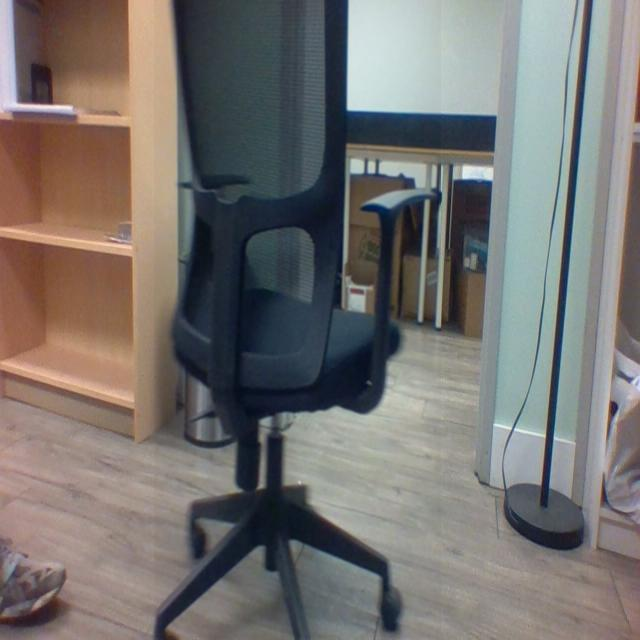chair: (148, 0, 449, 640)
table: (352, 143, 491, 330)
